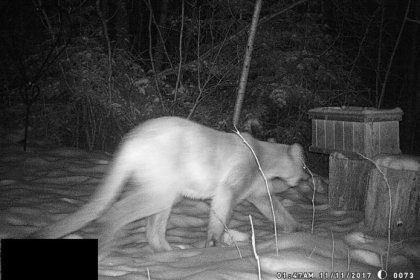mountain lion: (32, 123, 347, 255)
